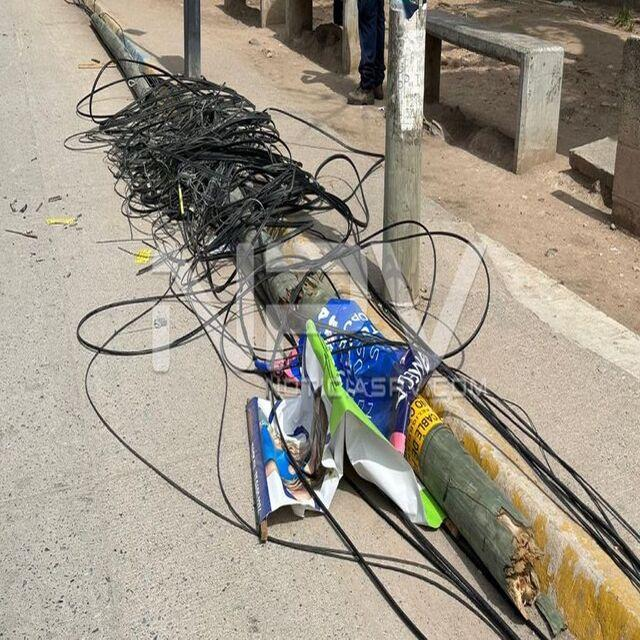Inclined Pole: (85, 10, 640, 640)
